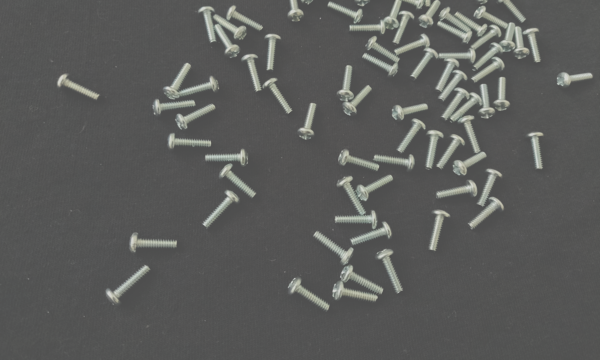shortscrew: (104, 265, 151, 307), (313, 231, 354, 269), (288, 277, 331, 313), (202, 190, 240, 230), (340, 266, 385, 297), (218, 164, 257, 199), (375, 249, 404, 295), (337, 176, 368, 217), (263, 77, 294, 117), (56, 73, 100, 100), (469, 197, 504, 230), (175, 104, 216, 132), (128, 232, 177, 255), (396, 119, 427, 155), (436, 134, 466, 171), (163, 63, 191, 101), (356, 174, 394, 202), (362, 52, 400, 80), (351, 222, 393, 247), (333, 281, 378, 304), (177, 75, 220, 99), (226, 6, 265, 32), (212, 13, 248, 41), (342, 85, 372, 118), (409, 48, 439, 81), (450, 93, 483, 123), (471, 56, 506, 84), (478, 169, 503, 208), (214, 24, 241, 60), (365, 36, 401, 63), (339, 150, 379, 174), (443, 87, 470, 121), (430, 209, 451, 252), (167, 133, 212, 153), (473, 42, 503, 72), (458, 116, 482, 153), (205, 148, 249, 168), (242, 55, 264, 95), (452, 152, 487, 177), (437, 21, 472, 46), (440, 71, 469, 101), (455, 12, 488, 38), (328, 2, 363, 26), (470, 25, 502, 51), (153, 99, 196, 118), (335, 210, 378, 229), (394, 34, 431, 56), (439, 7, 469, 34), (425, 131, 445, 171), (437, 58, 459, 94), (475, 6, 509, 29), (526, 133, 546, 172), (393, 11, 415, 46), (438, 180, 478, 199), (374, 155, 415, 173), (298, 103, 317, 141), (264, 34, 283, 72), (198, 6, 217, 44), (498, 0, 526, 25), (392, 103, 428, 122), (523, 28, 542, 64), (337, 66, 355, 103), (439, 48, 477, 65), (418, 0, 441, 28), (494, 77, 512, 112), (349, 20, 387, 36), (479, 85, 496, 119), (558, 73, 593, 89), (500, 22, 517, 53), (385, 0, 402, 30), (515, 27, 530, 60), (287, 0, 305, 23), (286, 0, 316, 8), (467, 0, 492, 6), (421, 0, 436, 8), (356, 0, 371, 7), (367, 0, 389, 2)
